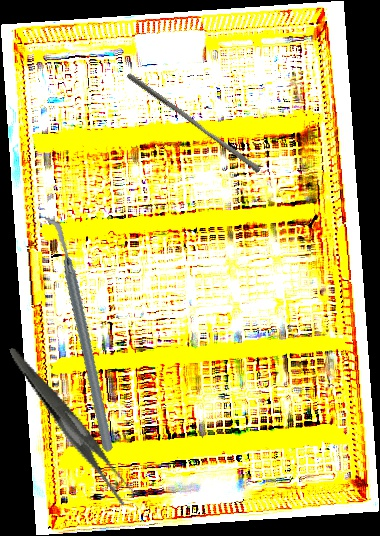Chopper: (2, 212, 155, 453)
Dressing Forceps: (9, 325, 137, 525)
Pusher: (122, 72, 265, 174)
